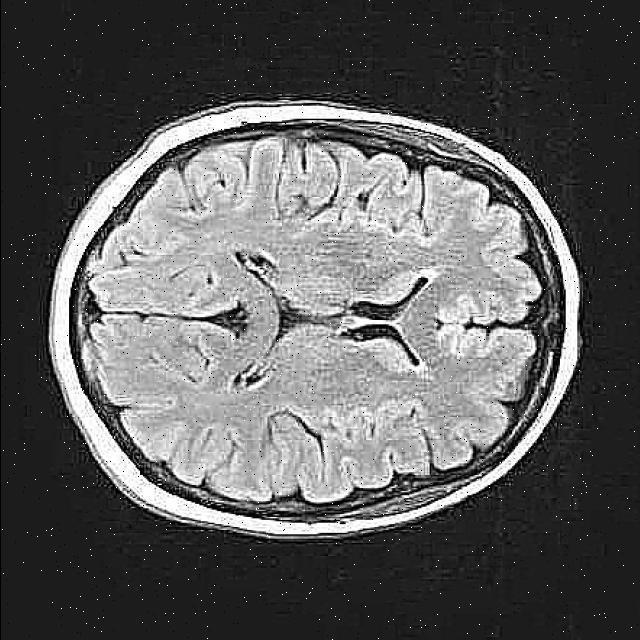No_Tumor: (49, 100, 579, 539)
